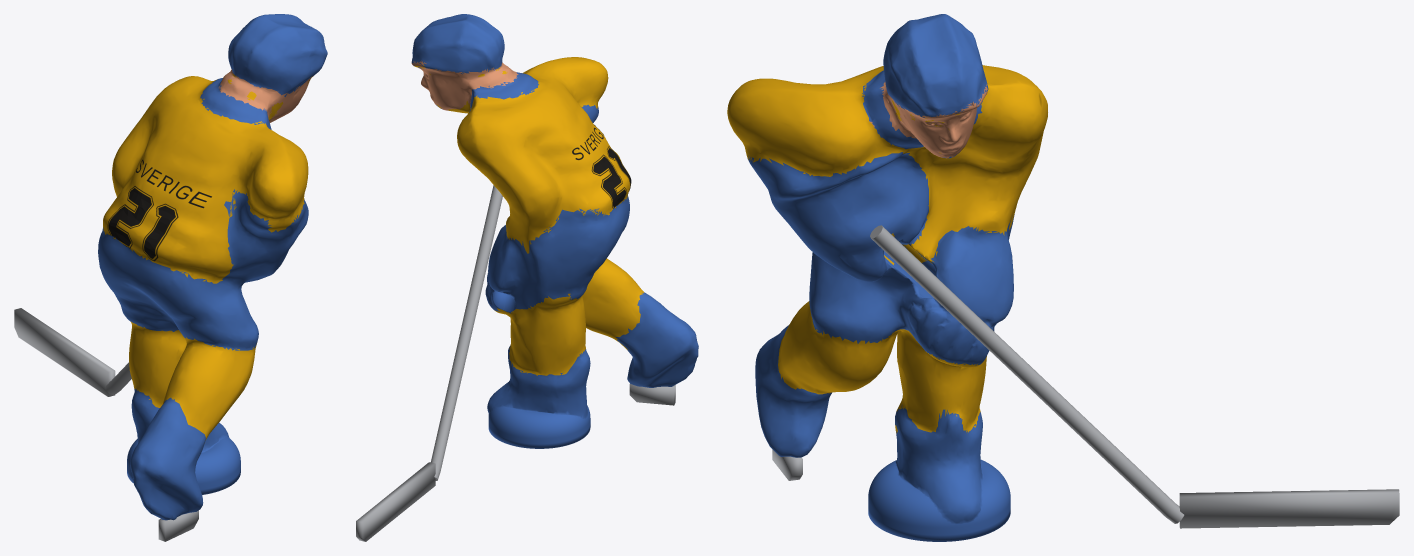
Rendered from skater_stl_SWE.glb.
The picture shows the model from 3 angles, left to right: view 1: azimuth 30°, elevation 25°; view 2: azimuth 150°, elevation 25°; view 3: azimuth 270°, elevation 25°; orthographic projection. The views are drawn at different scales.
Parts seen in each view (by area): view 1: Skater.SWE, Print.skater.SWE; view 2: Skater.SWE, Print.skater.SWE; view 3: Skater.SWE.
Boxes of the visible parts, bbox=[...] form: Skater.SWE: bbox=[14, 14, 327, 541]; Print.skater.SWE: bbox=[107, 160, 211, 261]; Skater.SWE: bbox=[356, 14, 698, 541]; Print.skater.SWE: bbox=[572, 124, 631, 208]; Skater.SWE: bbox=[727, 14, 1399, 541].
Bounding box in the file's own units: 0.0342 × 0.0569 × 0.0635.
5 materials, 1 textured.
